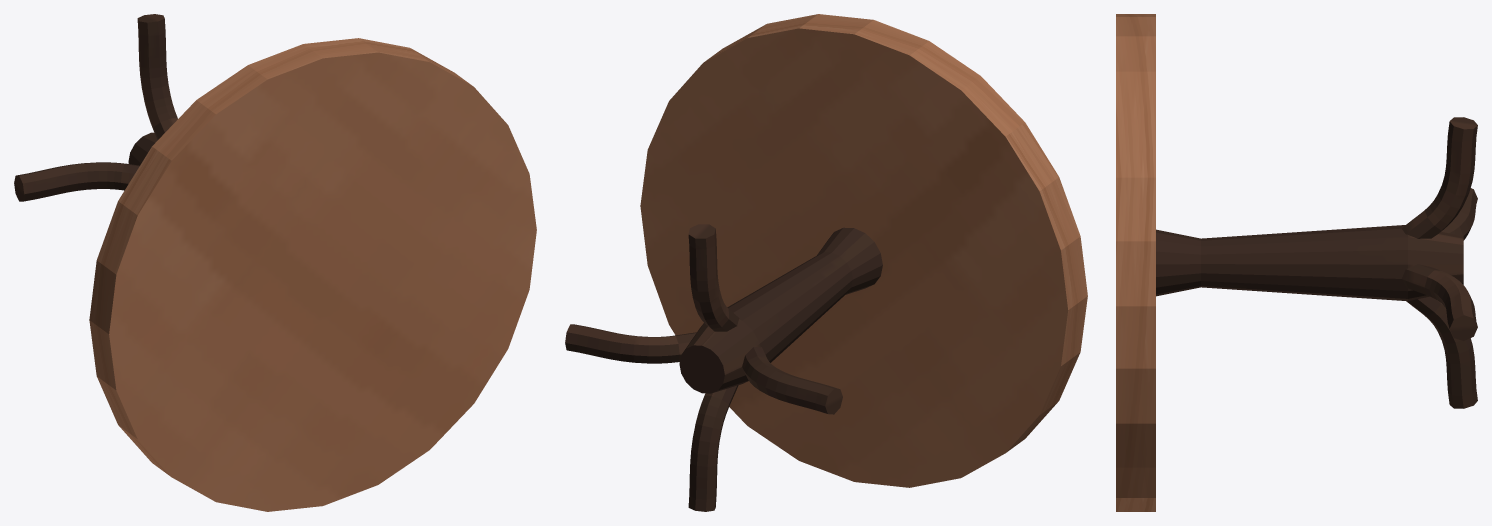
The model's file is pz_table_tables_high_01_oak_round_table.obj.
The picture shows the model from 3 angles, left to right: view 1: azimuth 30°, elevation 25°; view 2: azimuth 150°, elevation 25°; view 3: azimuth 270°, elevation 25°; orthographic projection.
Size of the model in its own units: 0.94 by 0.94 by 0.6806.
1 material, 1 textured.
